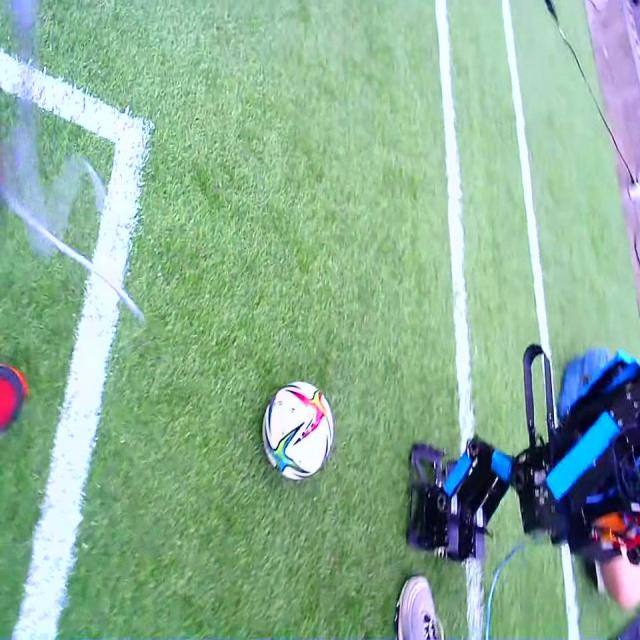ball: (264, 381, 334, 479)
